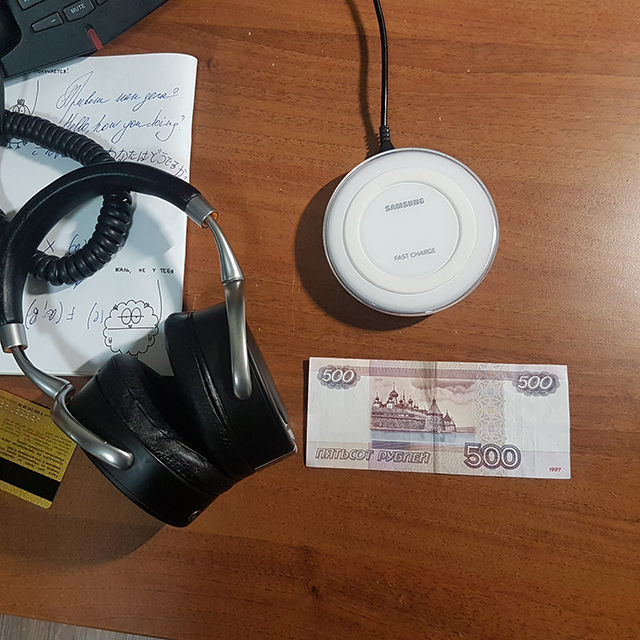banknotes: (306, 355, 572, 480)
